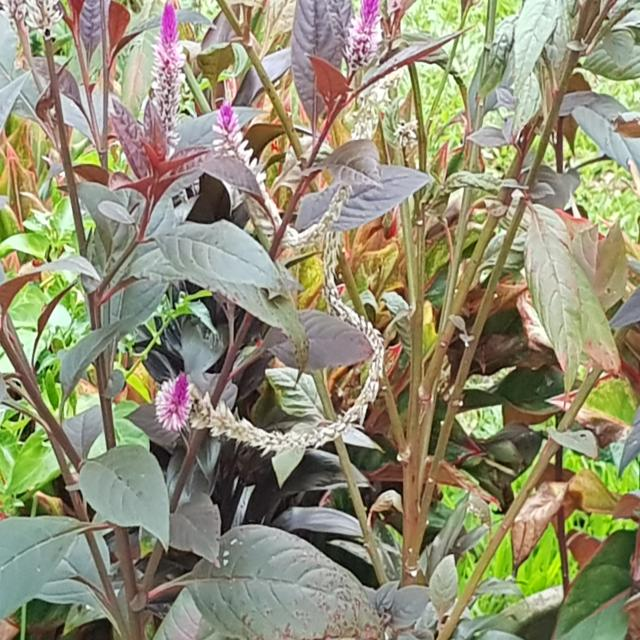Celosia-Argentea: (124, 370, 400, 440), (204, 68, 294, 240), (137, 0, 191, 200), (329, 0, 394, 83)
